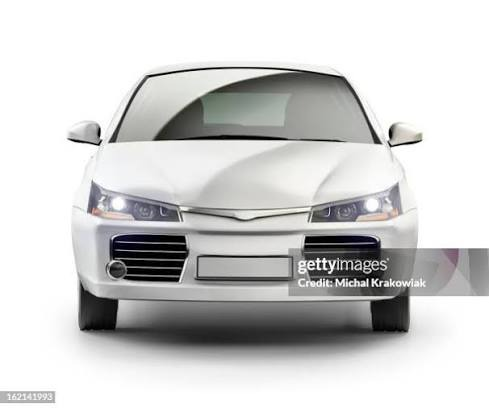car: (49, 66, 428, 332), (69, 63, 422, 330)
